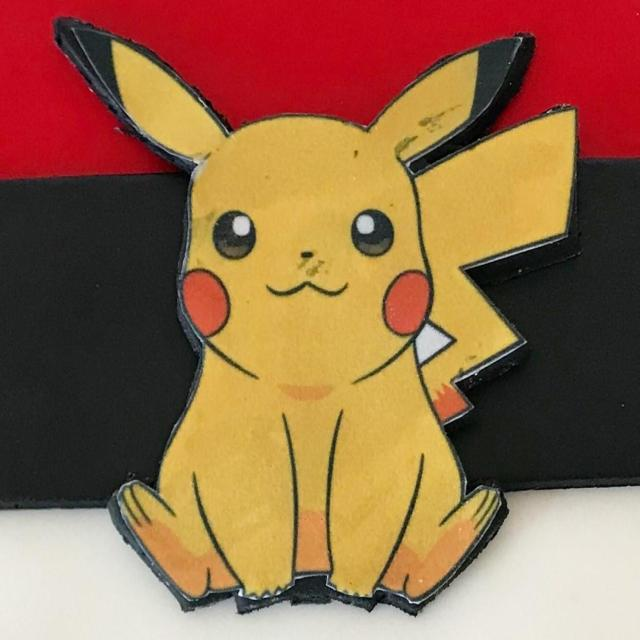pikachu: (70, 22, 582, 618)
